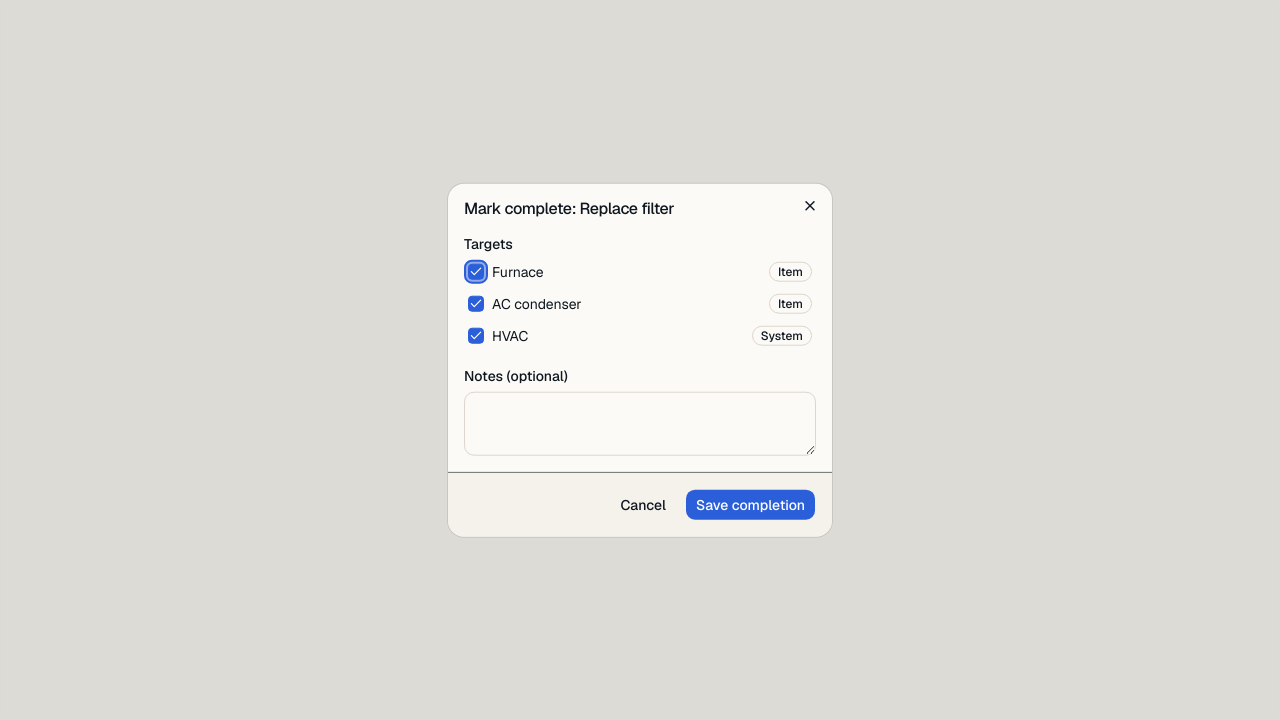
Scenario: MarkCompleteDialog › shows formError from the action result inline
Step 1. Click the button "Save completion" → (750, 504), box [685, 488, 816, 520]
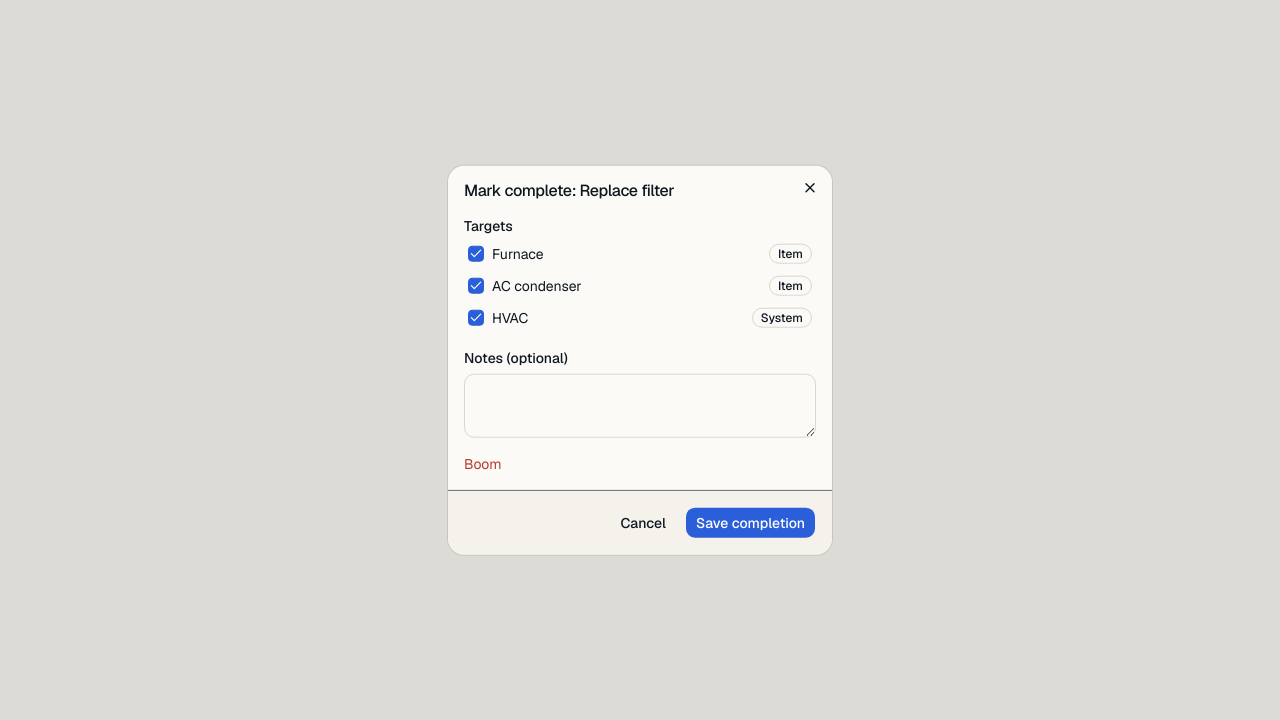
Expected: the message reads "Boom", [464, 454, 502, 472]
